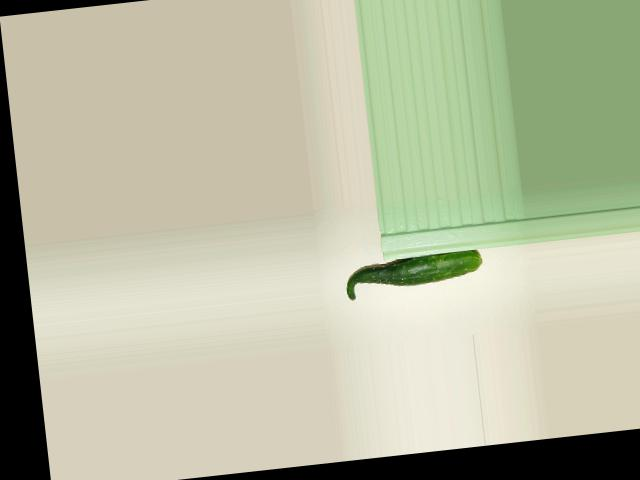cucumber: (343, 249, 484, 300)
